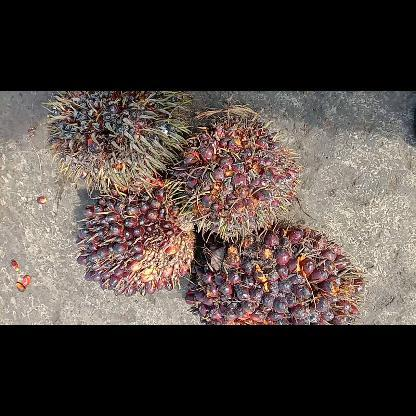Kurang masak: (167, 110, 299, 233), (72, 186, 193, 292)
TBS abnormal: (45, 92, 189, 182)
TBS masak: (188, 222, 362, 324)
